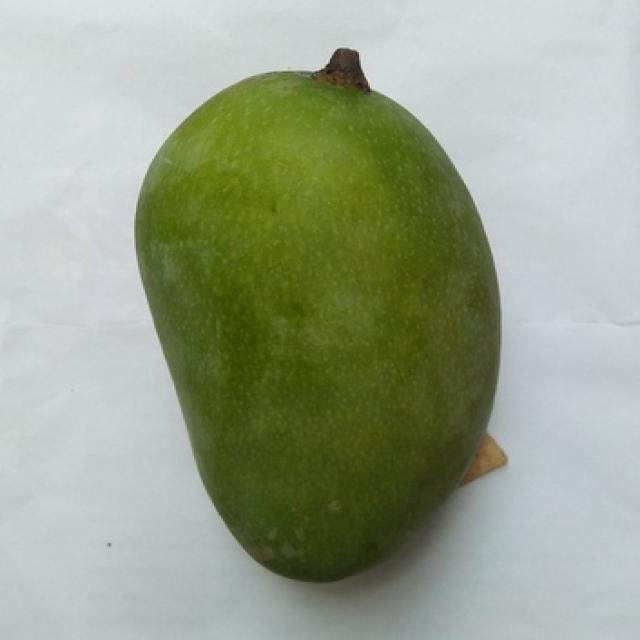Mango: (136, 48, 499, 580)
